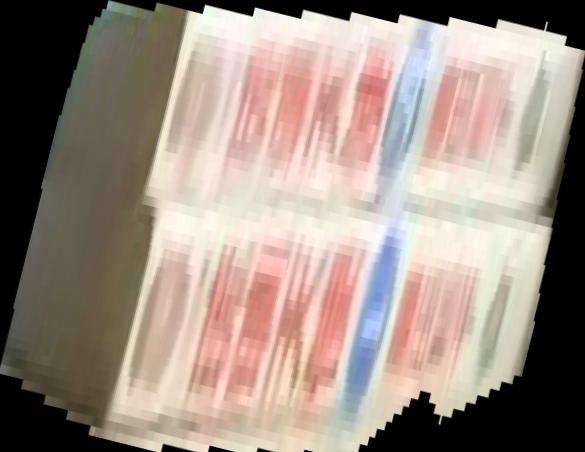flat: (1, 1, 585, 452)
